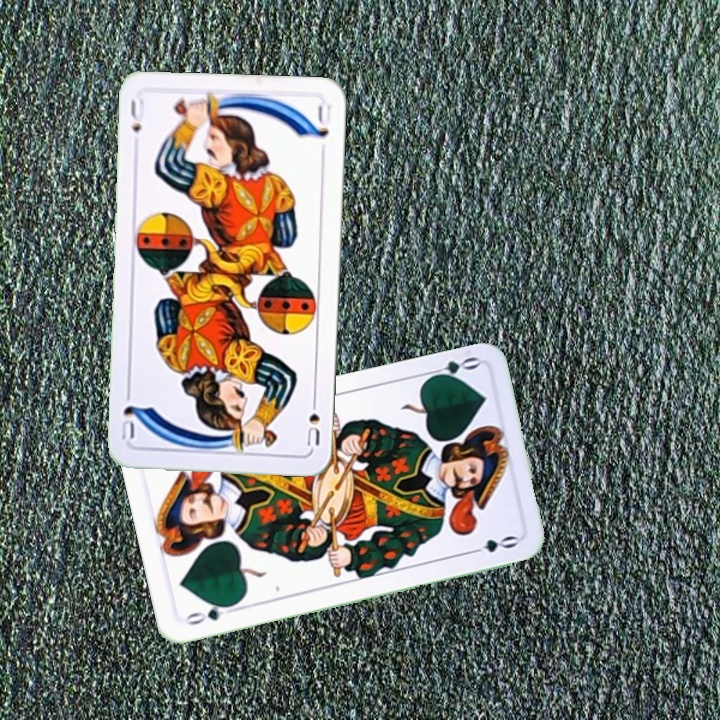GO: (422, 352, 481, 382), (181, 600, 239, 628)
SU: (302, 391, 323, 448), (126, 95, 147, 135)
